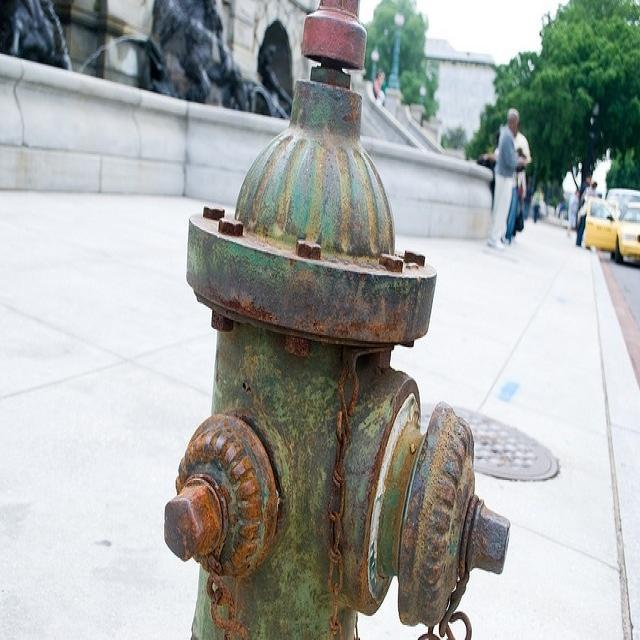fire_hydrant: (141, 0, 487, 630)
